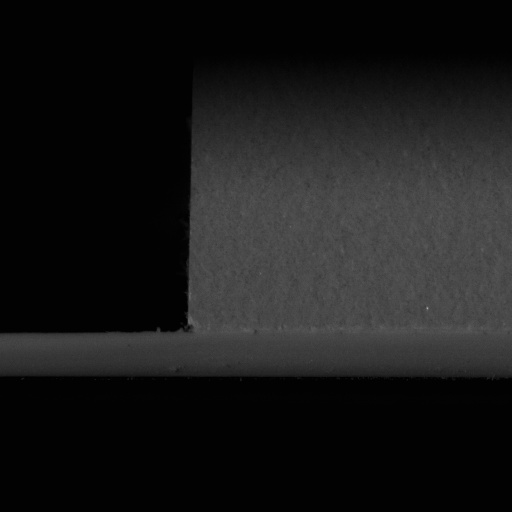changdai: (0, 332, 190, 382)
